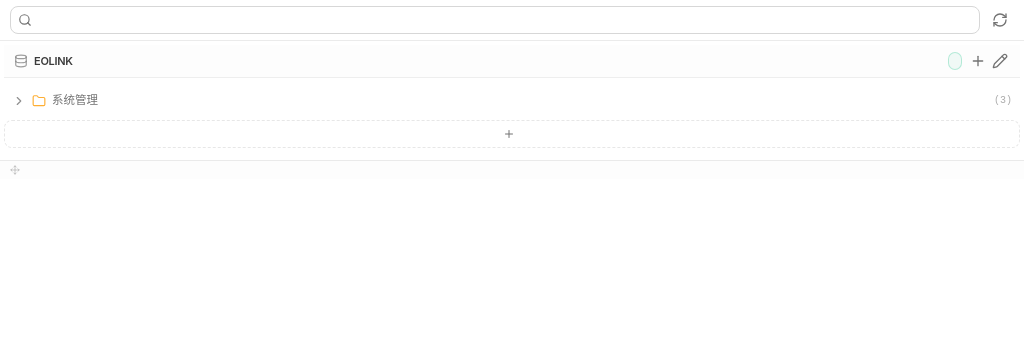
DataSourcePanel › resolves numeric group_path ID chains ("1906207,1906234,1906268") into readable nested hierarchy
Click the text "系统管理" at [75, 100], box 52,93 -> 98,107
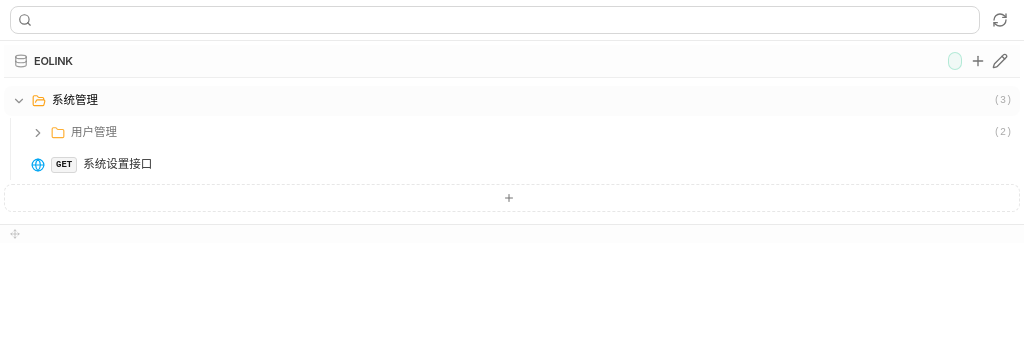
Check: the text "用户管理" is shown
Check: the text "系统设置接口" is shown, box 83,157 -> 152,171
Click the text "用户管理" at [94, 132], box 71,125 -> 117,139
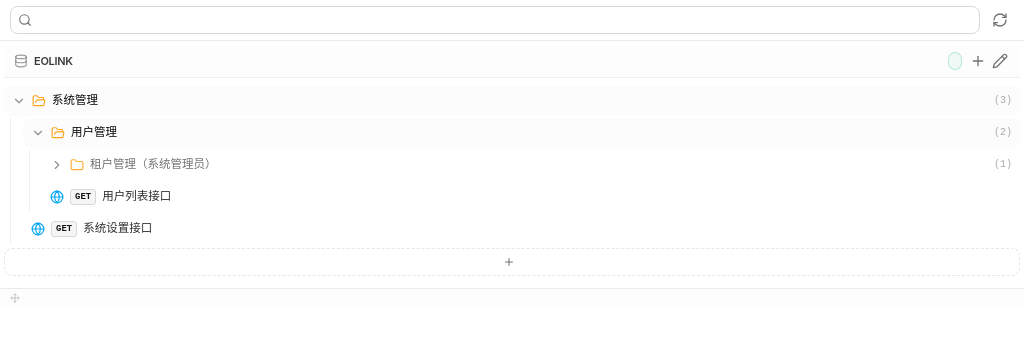
Check: the text "租户管理（系统管理员）" is shown
Check: the text "用户列表接口" is shown, box 102,189 -> 171,203
Click the text "租户管理（系统管理员）" at [153, 164], box 90,157 -> 216,171
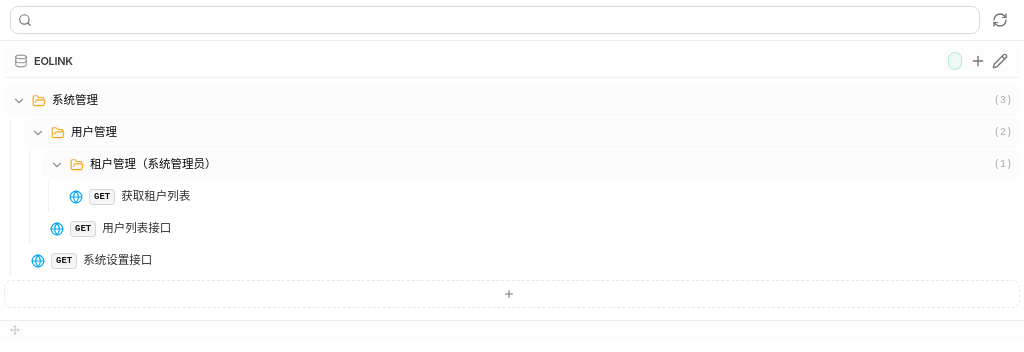
Check: the text "获取租户列表" is shown, box 121,189 -> 190,203
